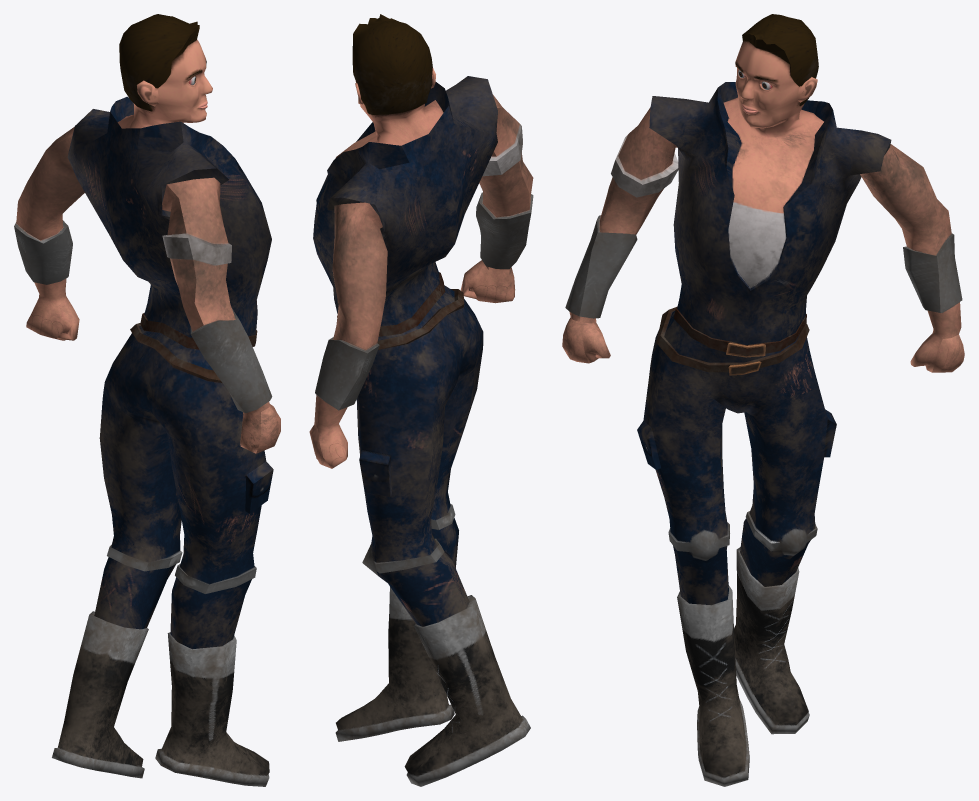
Rendered from Anim_ataque_f1_jugador.0031.obj.
3 renders of one model, left to right at view 1: azimuth 30°, elevation 25°; view 2: azimuth 150°, elevation 25°; view 3: azimuth 270°, elevation 25°, orthographic. The views are drawn at different scales.
Parts seen in each view (by area): view 1: polySurface1; view 2: polySurface1; view 3: polySurface1.
Part boxes in pixels (x1,y1,x2,y2): polySurface1: [14, 14, 280, 786]; polySurface1: [309, 14, 533, 786]; polySurface1: [562, 14, 964, 786].
Bounding box in the file's own units: 2.77 × 9.86 × 4.91.
